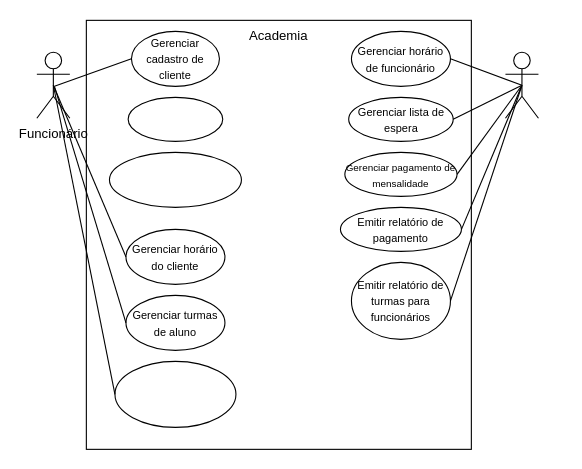
Some shapes in this 582 by 469 pixel diagram are drawn without their labels. Each missing label, with the box of its shape:
Administrador: (504, 51, 538, 118)
Emitir relatório de ficha de aluno por turma: (114, 360, 236, 427)
Gerenciar ficha de cliente: (127, 96, 223, 141)
Solicitar relatório de ficha do cliente: (108, 151, 241, 207)
